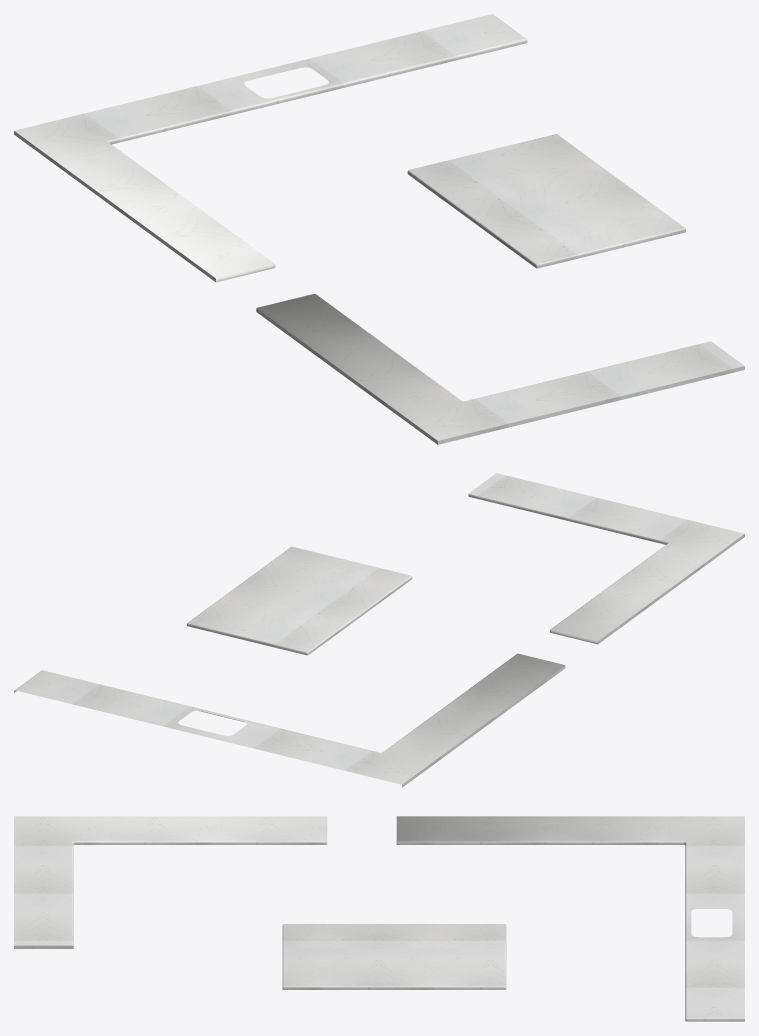
Rendered from Countertops_QuartzCalacattaUltra.glb.
3 views of the same model, one above another, from view 1: azimuth 30°, elevation 25°; view 2: azimuth 150°, elevation 25°; view 3: azimuth 270°, elevation 25° (orthographic). The views are drawn at different scales.
Visible parts, largest first — view 1: Countertops_Quartz Calacatta Ultra; view 2: Countertops_Quartz Calacatta Ultra; view 3: Countertops_Quartz Calacatta Ultra.
Boxes of the visible parts, x1=… form: Countertops_Quartz Calacatta Ultra: x1=14, y1=14, x2=744, y2=444; Countertops_Quartz Calacatta Ultra: x1=14, y1=473, x2=744, y2=787; Countertops_Quartz Calacatta Ultra: x1=14, y1=816, x2=744, y2=1021.
Size of the model in its own units: 6.4 by 0.05 by 9.8.
Materials: 1 (1 with a texture image).
